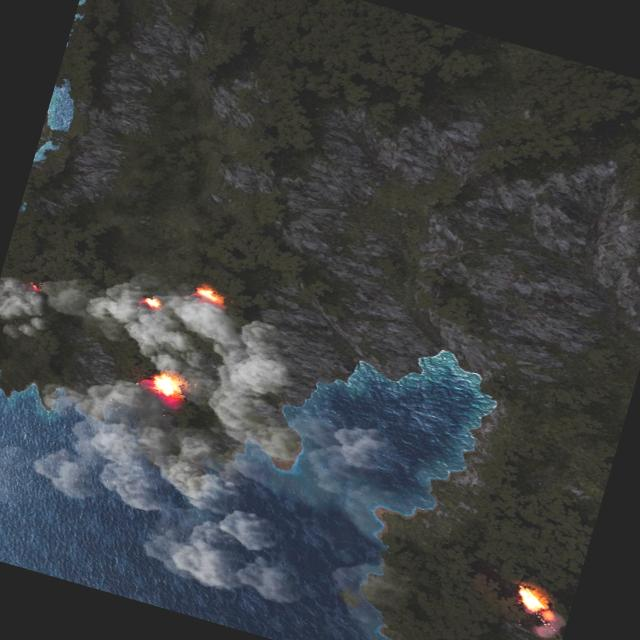fire: (142, 367, 188, 402), (512, 582, 552, 615), (194, 282, 228, 305), (140, 294, 162, 309), (27, 279, 43, 291)
smoke: (6, 255, 381, 612), (0, 265, 77, 351), (519, 606, 568, 640)
